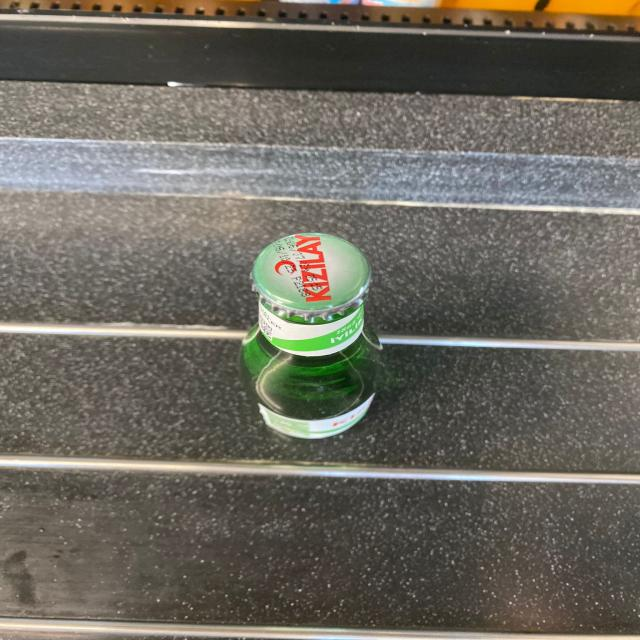yan_yemek: (237, 231, 385, 440)
